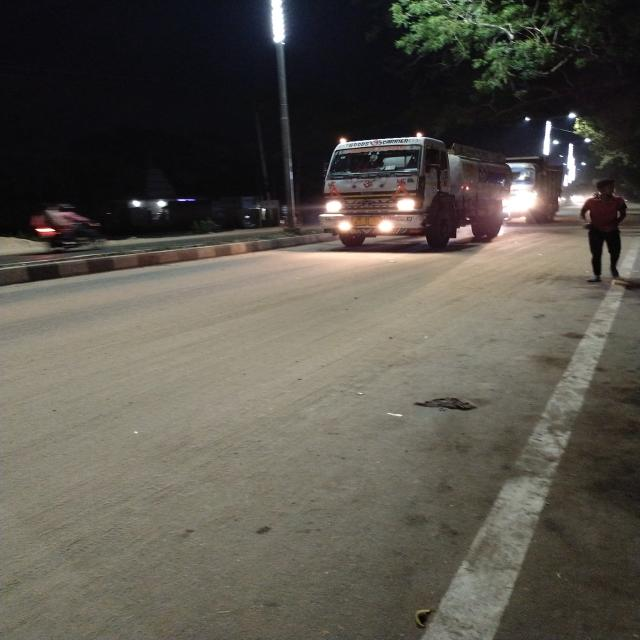Bike: (41, 210, 104, 267)
Truck: (317, 130, 510, 258), (489, 137, 589, 216)
